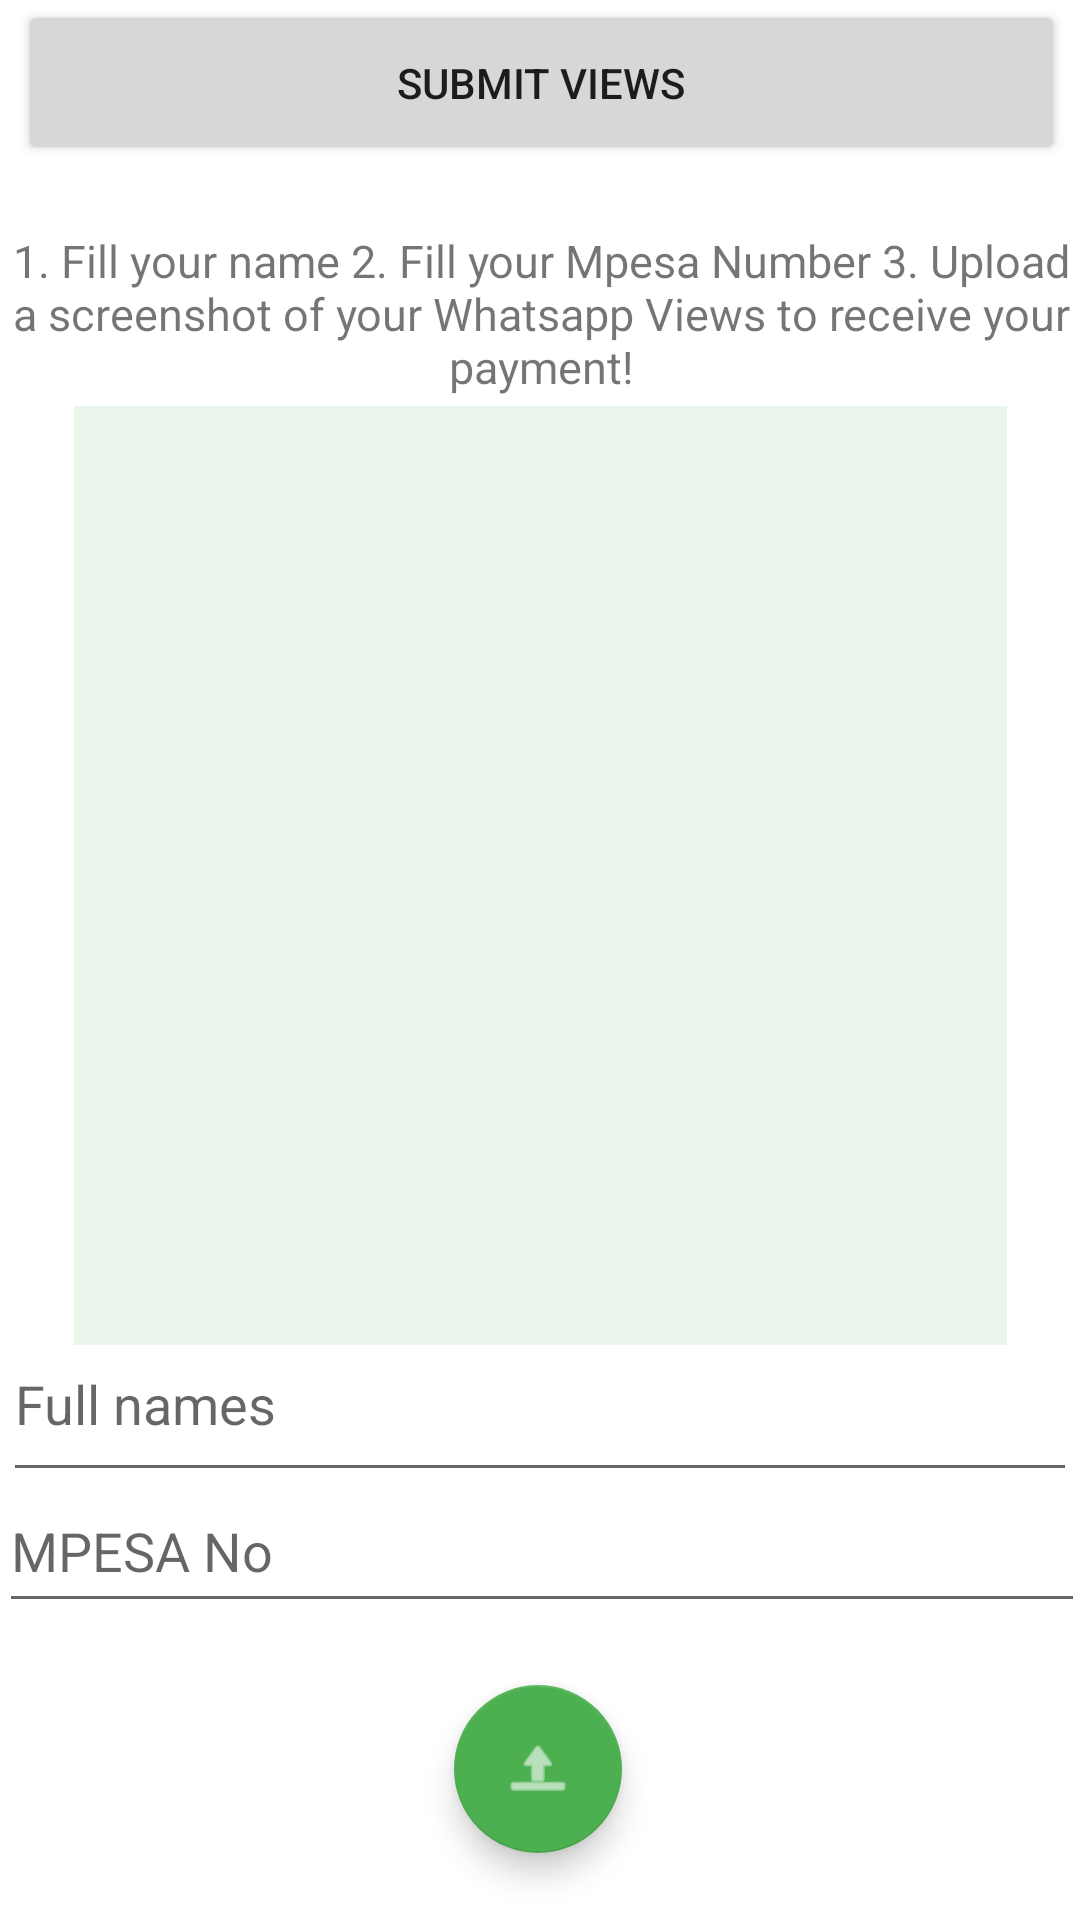

Icon bounding boxes for this 1080*1920 phone screenshot, format (x1, y1, x2, y2):
upload: (454, 1685, 622, 1853)
